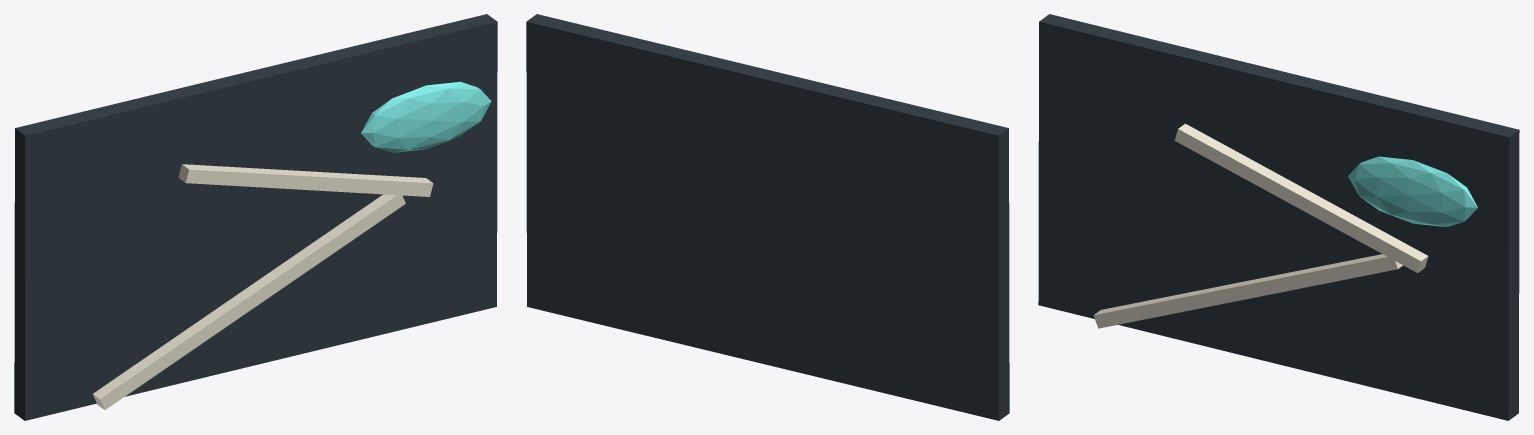
Rendered from 05_weathering_wear_overlay_5.glb.
The picture shows the model from 3 angles, left to right: view 1: azimuth 30°, elevation 25°; view 2: azimuth 150°, elevation 25°; view 3: azimuth 330°, elevation 25°; orthographic projection.
Visible parts, largest first — view 1: wear_plate, scratch_a, rust_or_moss_spot, scratch_b; view 2: wear_plate; view 3: wear_plate, rust_or_moss_spot, scratch_b, scratch_a.
Boxes of the visible parts, x1,y1,x2,y2 form: wear_plate: [14, 14, 497, 420]; scratch_a: [93, 194, 405, 409]; rust_or_moss_spot: [361, 81, 491, 152]; scratch_b: [178, 164, 433, 196]; wear_plate: [526, 14, 1009, 420]; wear_plate: [1038, 14, 1519, 420]; rust_or_moss_spot: [1348, 156, 1477, 227]; scratch_b: [1174, 123, 1428, 272]; scratch_a: [1093, 254, 1402, 328].
Bounding box in the file's own units: 1.3 × 0.7528 × 0.134.
